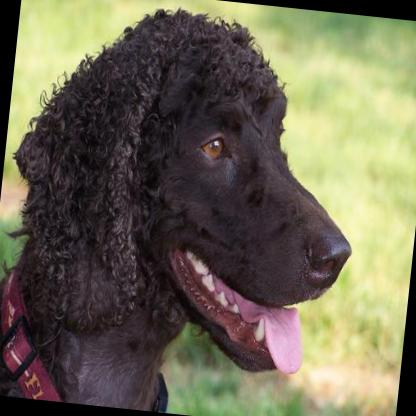Irish_water_spaniel: (0, 0, 374, 416)
